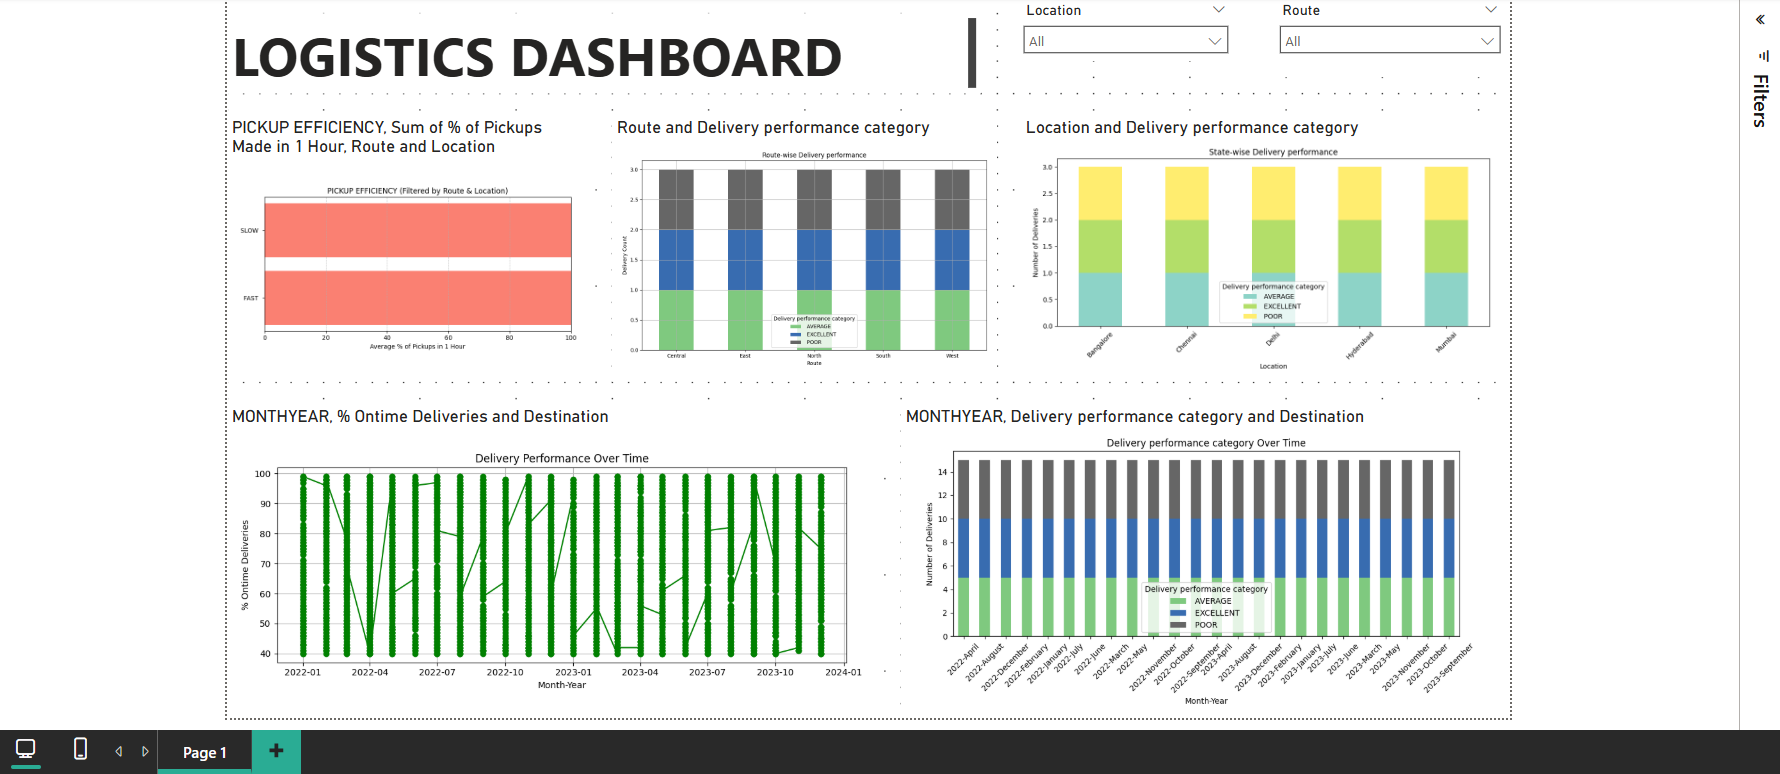

What the dashboard file says about the page in this screenshot:
{"tool":"powerbi","page":{"name":"Page 1","canvas":[1280,720],"ordinal":0},"visuals":[{"type":"pythonVisual","fields":{"Values":["Logistics data.MONTHYEAR","Logistics data.% Ontime Deliveries","Logistics data.Destination"]},"box":[0,408,648,312],"z":0},{"type":"pythonVisual","fields":{"Values":["Logistics data.MONTHYEAR","Logistics data.Delivery performance category","Logistics data.Destination"]},"box":[672,408,600,312],"z":1000},{"type":"pythonVisual","fields":{"Values":["Logistics data.Location","Logistics data.Delivery performance category"]},"box":[792,120,480,264],"z":2000},{"type":"pythonVisual","fields":{"Values":["Logistics data.Route","Logistics data.Delivery performance category"]},"box":[384,120,384,264],"z":3000},{"type":"slicer","fields":{"Values":["Logistics data.Route"]},"box":[1040,0,240,80],"z":4000},{"type":"slicer","fields":{"Values":["Logistics data.Location"]},"box":[784,0,224,64],"z":5000},{"type":"pythonVisual","fields":{"Values":["Logistics data.PICKUP EFFICIENCY","Sum(Logistics data.% of Pickups Made in 1 Hour)","Logistics data.Route","Logistics data.Location"]},"box":[0,120,360,264],"z":6000},{"type":"textbox","box":[0,16,752,80],"z":7000}]}

Visuals, with their boxes on the page's 1280x720 design canvas (x1, y1, x2, y2). These are canvas units, not pixel positions in the 1780x774 screenshot, which may show the page scaled, cropped or inside an application window:
pythonVisual - Logistics data.MONTHYEAR x Logistics data.% Ontime Deliveries: (0, 408, 648, 720)
pythonVisual - Logistics data.MONTHYEAR x Logistics data.Delivery performance category: (672, 408, 1272, 720)
pythonVisual - Logistics data.Location x Logistics data.Delivery performance category: (792, 120, 1272, 384)
pythonVisual - Logistics data.Route x Logistics data.Delivery performance category: (384, 120, 768, 384)
slicer - Logistics data.Route: (1040, 0, 1280, 80)
slicer - Logistics data.Location: (784, 0, 1008, 64)
pythonVisual - Logistics data.PICKUP EFFICIENCY x Sum(Logistics data.% of Pickups Made in 1 Hour): (0, 120, 360, 384)
textbox: (0, 16, 752, 96)
